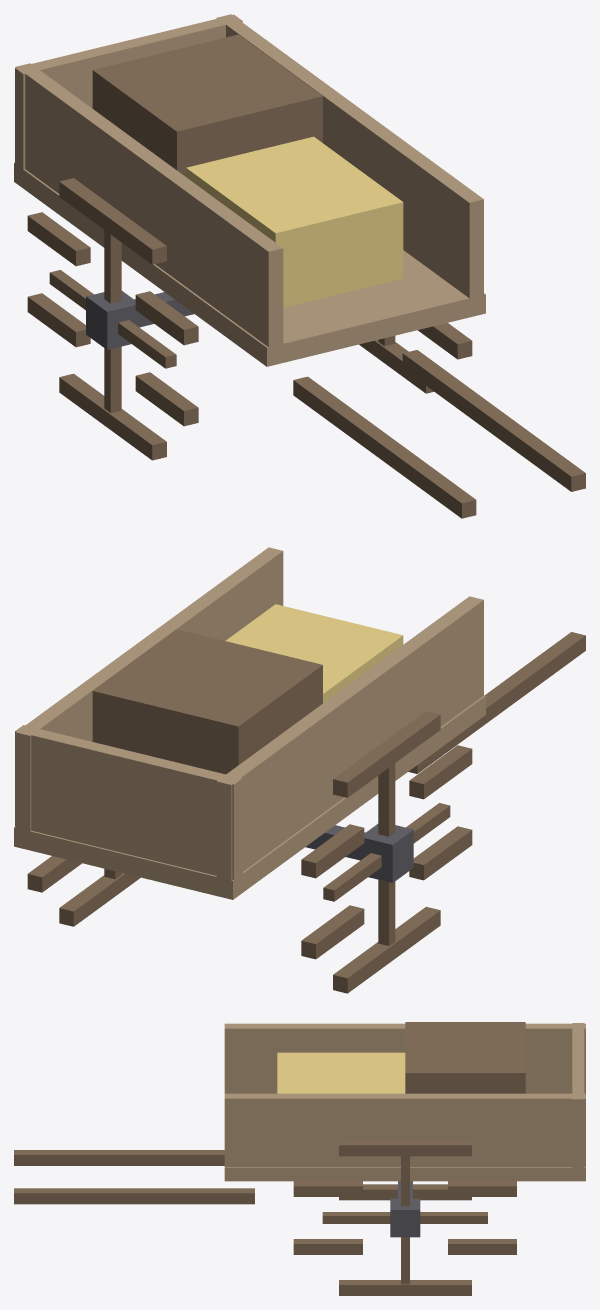
Rendered from market_cart.glb.
The picture shows the model from 3 angles, top to bottom: view 1: azimuth 30°, elevation 25°; view 2: azimuth 150°, elevation 25°; view 3: azimuth 270°, elevation 25°; orthographic projection. The views are drawn at different scales.
Visible parts, largest first — view 1: MarketCart; view 2: MarketCart; view 3: MarketCart.
Boxes of the visible parts, x1,y1,x2,y2 form: MarketCart: [14, 14, 585, 518]; MarketCart: [14, 547, 585, 993]; MarketCart: [14, 1022, 585, 1295].
Size of the model in its own units: 1.68 by 1.45 by 3.8.
